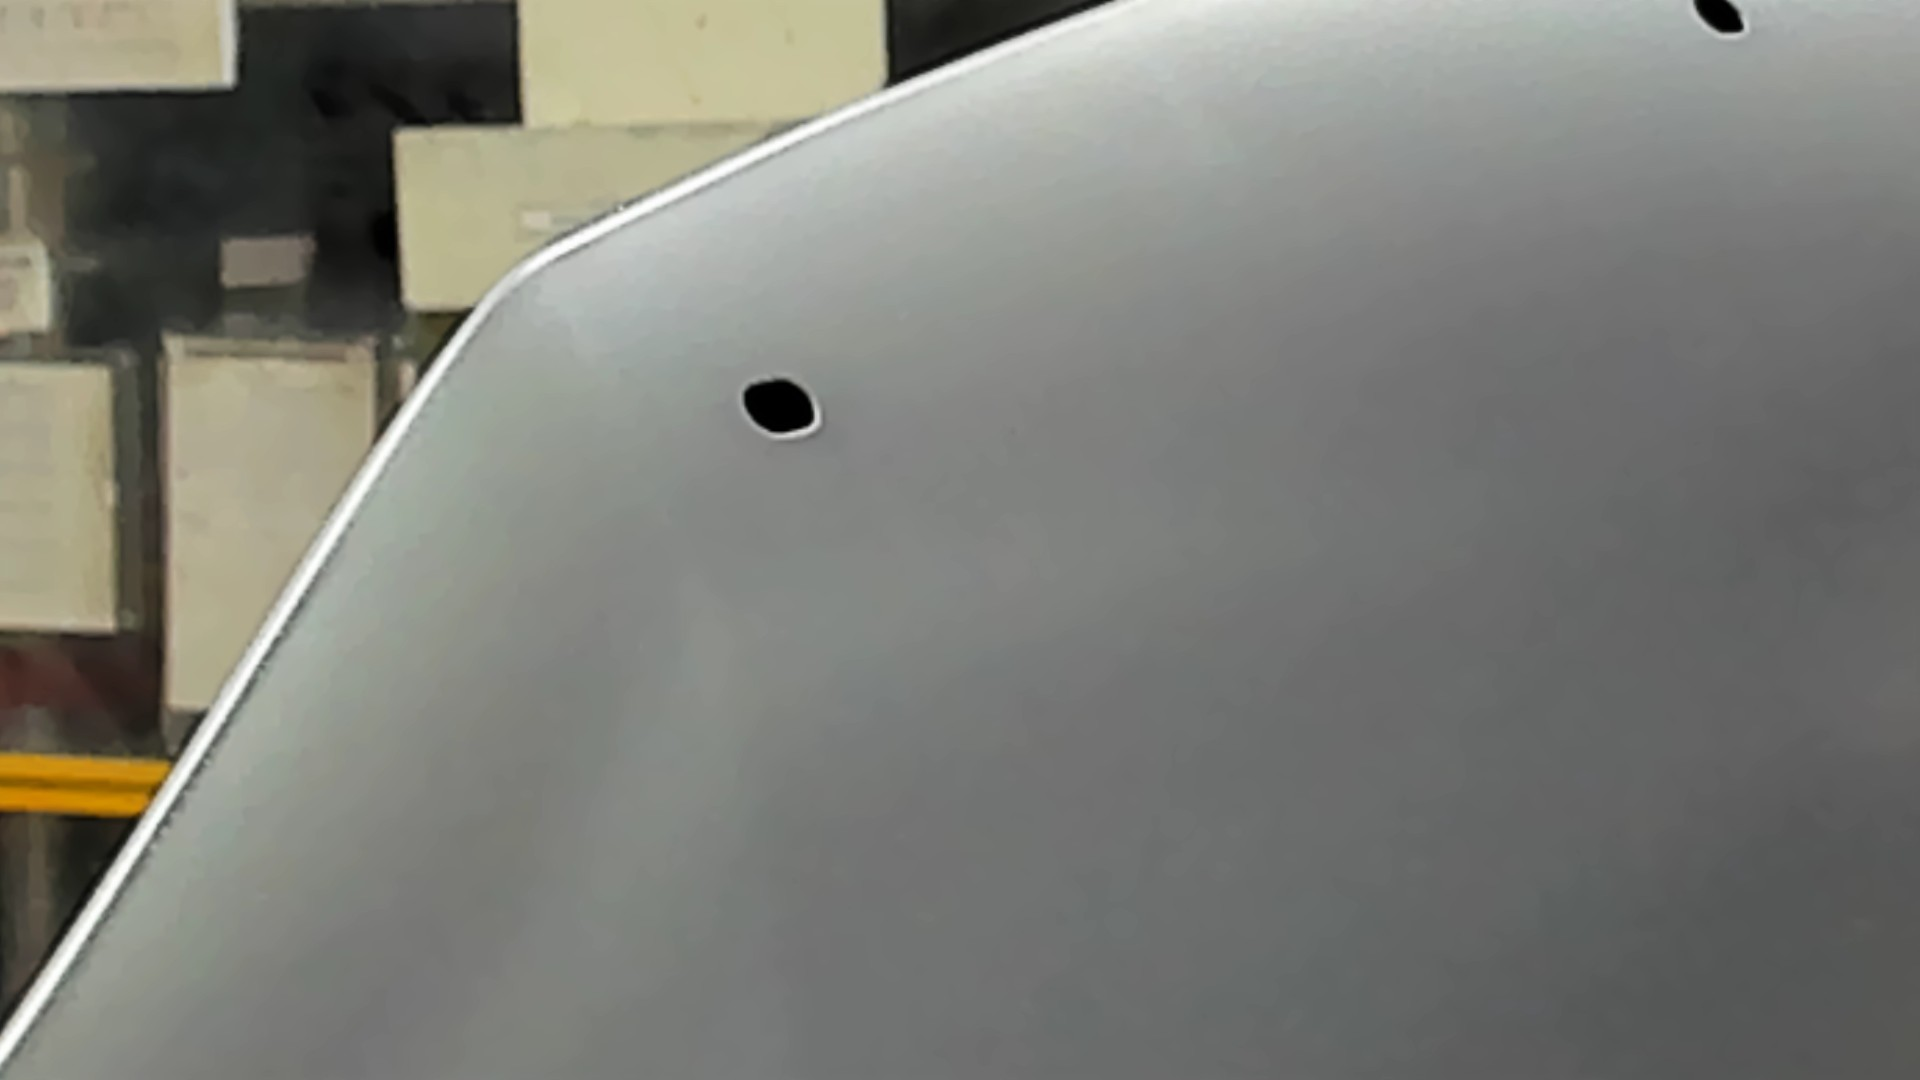amorfo: (737, 373, 825, 446), (1679, 1, 1756, 50)
